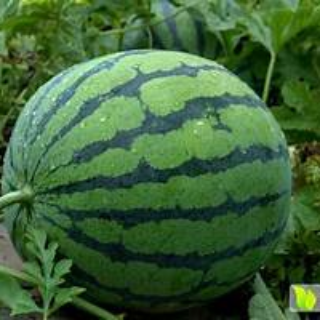dua_hau: (1, 48, 293, 305)
